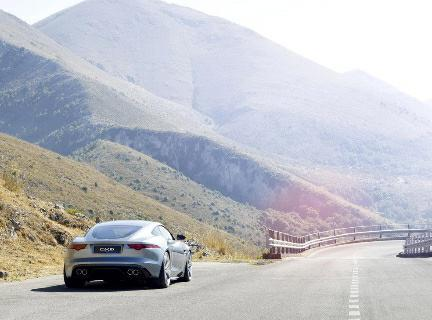捷豹-C-X16: (58, 219, 197, 293)
